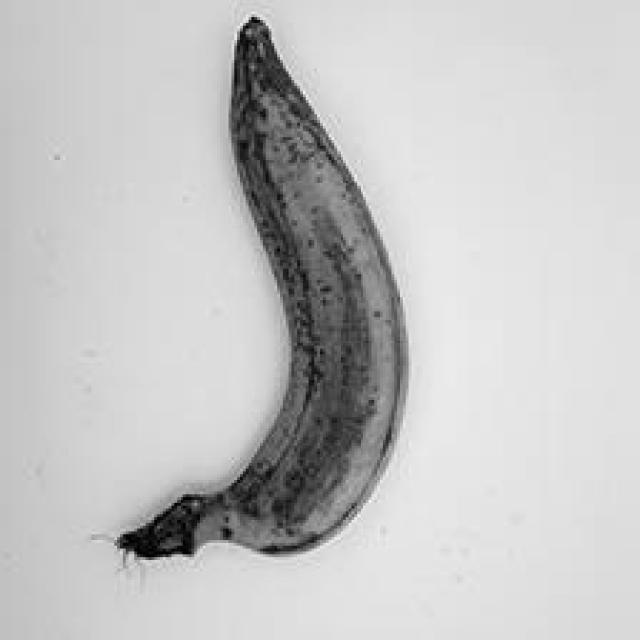Overripe: (107, 3, 446, 575)
